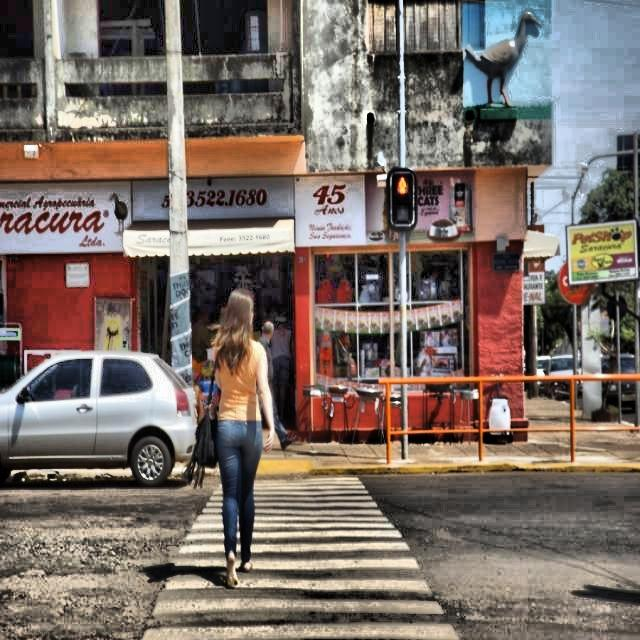faixa de pedestre: (144, 471, 449, 634)
